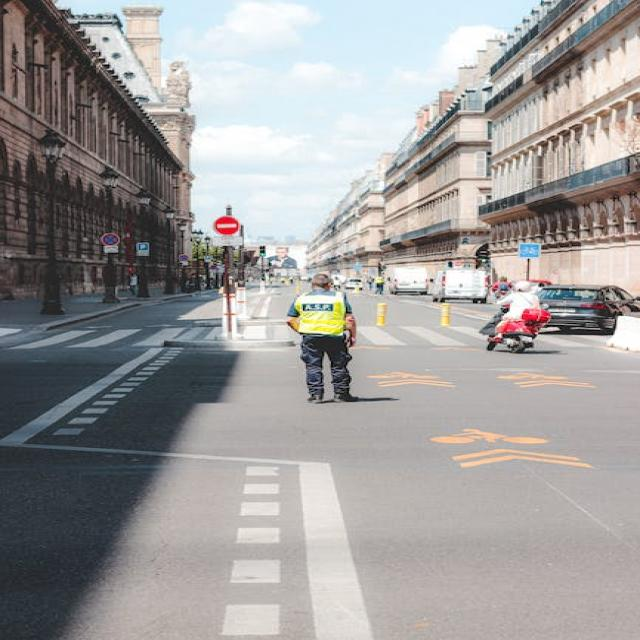no entry: (214, 216, 239, 235)
no stopping: (102, 234, 120, 246)
